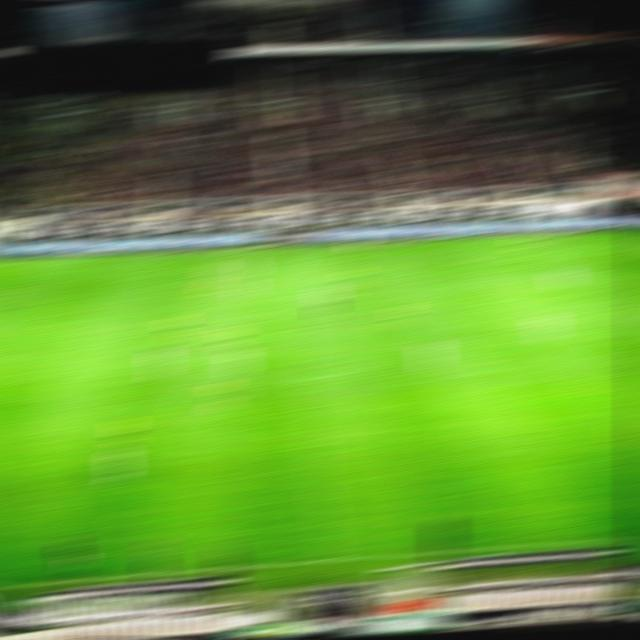bigarea_top_inner: (546, 261, 574, 274), (0, 287, 23, 297)
corner: (614, 228, 640, 238)
halfcircle_bottom: (292, 375, 317, 385)
halfcircle_top: (282, 305, 308, 314)
midline_bottom_intersection: (312, 549, 348, 571), (362, 36, 387, 46)
midline_top_intersection: (274, 243, 299, 252)
top_arc_area_intersection: (587, 295, 613, 305)
